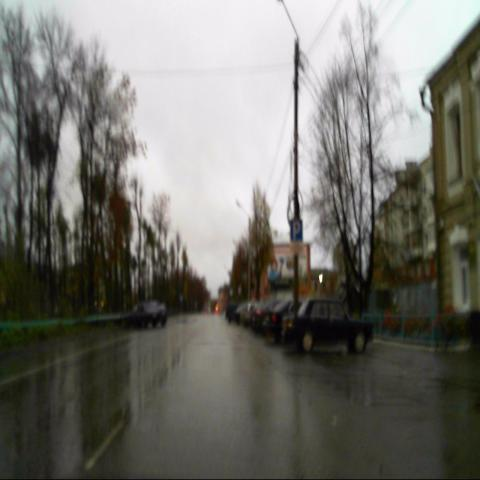6_4: (290, 220, 302, 241)
